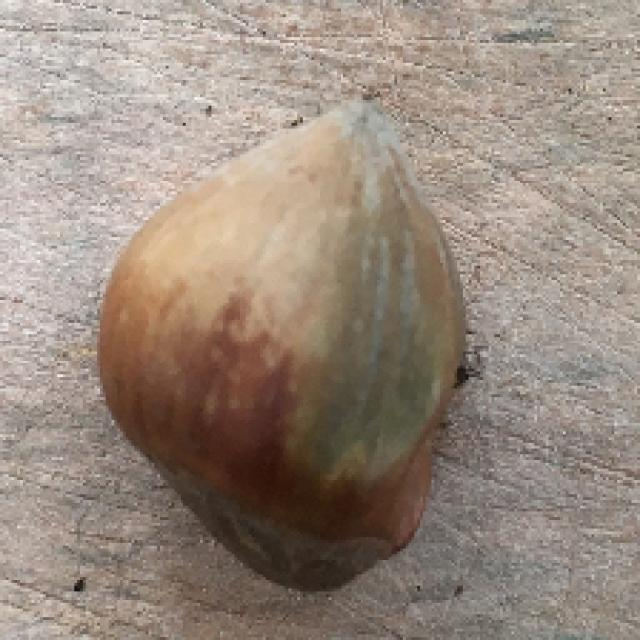damagedHazelnut: (96, 97, 471, 603)
